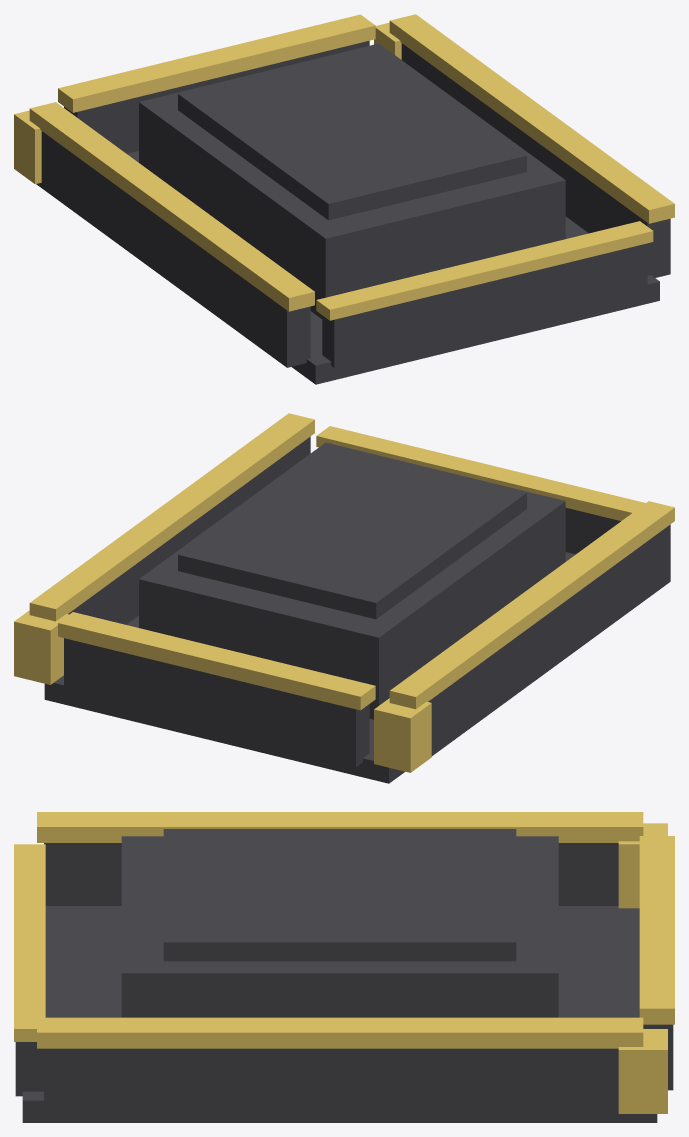
File: chapeu_pirata_tricornio.glb
3 views of the same model, one above another, from view 1: azimuth 30°, elevation 25°; view 2: azimuth 150°, elevation 25°; view 3: azimuth 270°, elevation 25° (orthographic). The views are drawn at different scales.
Visible parts, largest first — view 1: chapeu_pirata_tricornio; view 2: chapeu_pirata_tricornio; view 3: chapeu_pirata_tricornio.
Boxes of the visible parts, x1,y1,x2,y2 form: chapeu_pirata_tricornio: (14, 14, 674, 384); chapeu_pirata_tricornio: (14, 413, 674, 783); chapeu_pirata_tricornio: (14, 812, 674, 1122).
Size of the model in its own units: 0.76 by 0.2175 by 0.9375.
